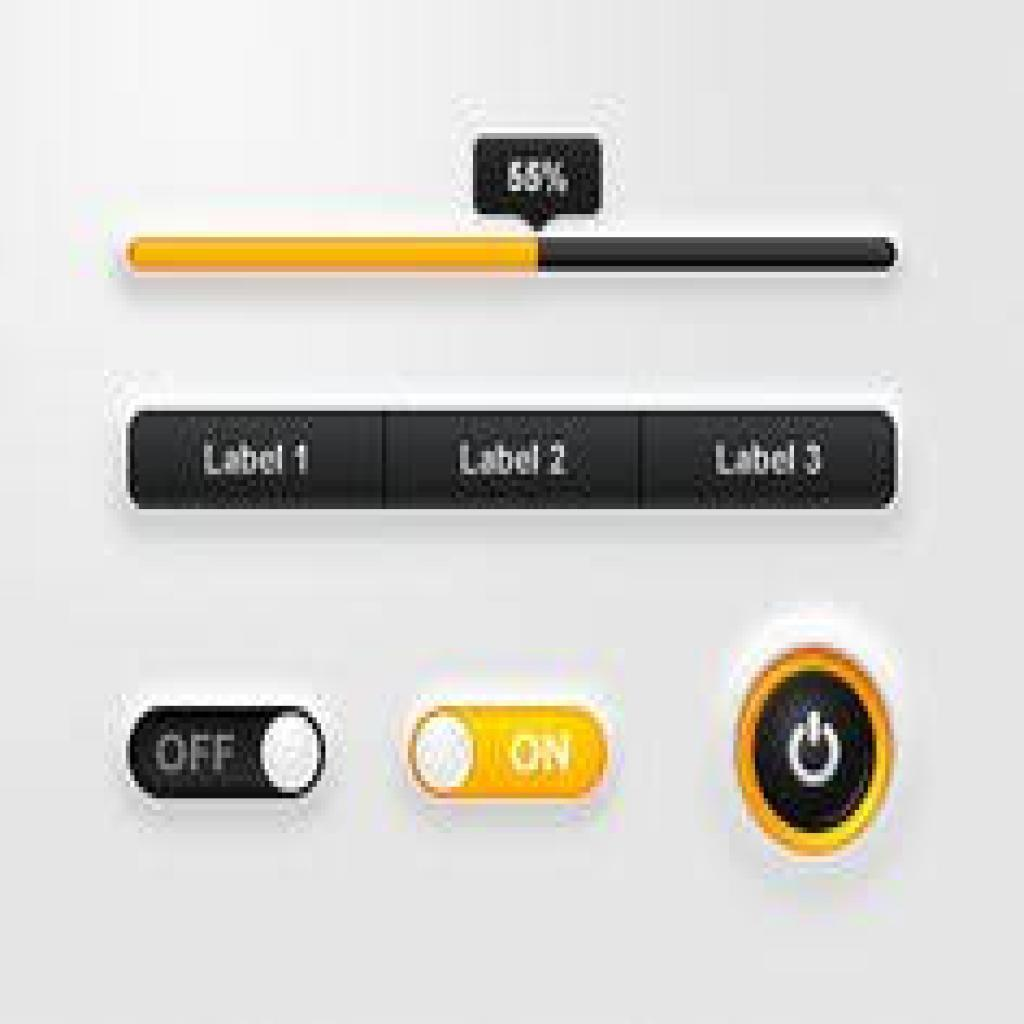icon: (787, 705, 841, 788)
slider: (124, 125, 906, 283)
switch: (408, 707, 614, 800), (131, 706, 328, 799)
